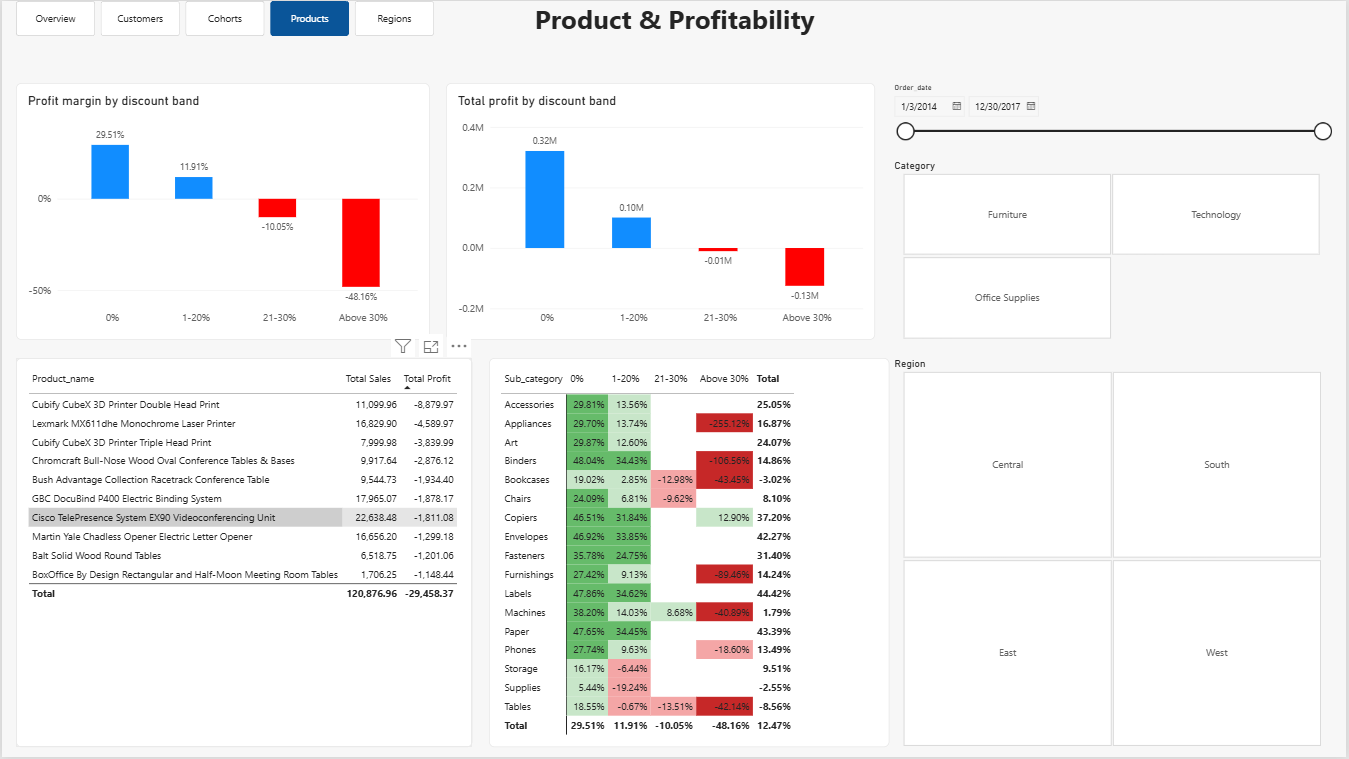

Layout of this report page (visuals, bound fields, positions):
{"tool":"powerbi","page":{"name":"Products","canvas":[1920,1080],"ordinal":3},"visuals":[{"type":"clusteredColumnChart","title":"Profit margin by discount band","fields":{"Category":["superstore.Discount Band"],"Y":["superstore.Profit Margin"]},"box":[20,117,590.5,367.1],"z":0},{"type":"clusteredColumnChart","title":"Total profit by discount band","fields":{"Category":["superstore.Discount Band"],"Y":["superstore.Total Profit"]},"box":[634.4,117,613.2,367.1],"z":1},{"type":"pivotTable","fields":{"Columns":["superstore.Discount Band"],"Rows":["superstore.Sub_category"],"Values":["superstore.Profit Margin"]},"box":[695.6,509.4,571.9,556],"z":2},{"type":"tableEx","fields":{"Values":["superstore.Product_name","superstore.Total Sales","superstore.Total Profit"]},"box":[20,509.4,651.7,556],"z":3},{"type":"slicer","fields":{"Values":["superstore.order_date"]},"box":[1267.5,117,635.8,99.8],"z":5000},{"type":"slicer","fields":{"Values":["superstore.category"]},"box":[1267.5,227.4,634.4,256.7],"z":6000},{"type":"slicer","fields":{"Values":["superstore.region"]},"box":[1267.5,509.4,635.8,556],"z":7000},{"type":"textbox","box":[20,0,1882,102.4],"z":7001},{"type":"pageNavigator","box":[20,0,600,50.5],"z":7002}]}

Visuals, with their boxes in screenshot pixels (x1, y1, x2, y2), scaled from the page's 1920x1080 canvas onto the 1349x759 screenshot:
"Profit margin by discount band" clusteredColumnChart: {"x1": 14, "y1": 82, "x2": 429, "y2": 340}
"Total profit by discount band" clusteredColumnChart: {"x1": 446, "y1": 82, "x2": 877, "y2": 340}
pivotTable - superstore.Discount Band x superstore.Sub_category: {"x1": 489, "y1": 358, "x2": 891, "y2": 749}
tableEx - superstore.Product_name x superstore.Total Sales: {"x1": 14, "y1": 358, "x2": 472, "y2": 749}
slicer - superstore.order_date: {"x1": 891, "y1": 82, "x2": 1337, "y2": 152}
slicer - superstore.category: {"x1": 891, "y1": 160, "x2": 1336, "y2": 340}
slicer - superstore.region: {"x1": 891, "y1": 358, "x2": 1337, "y2": 749}
textbox: {"x1": 14, "y1": 0, "x2": 1336, "y2": 72}
pageNavigator: {"x1": 14, "y1": 0, "x2": 436, "y2": 35}
